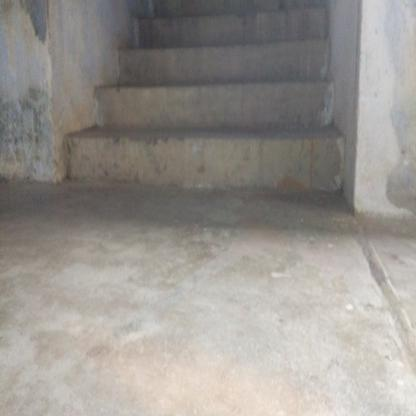stairs: (66, 4, 331, 202)
